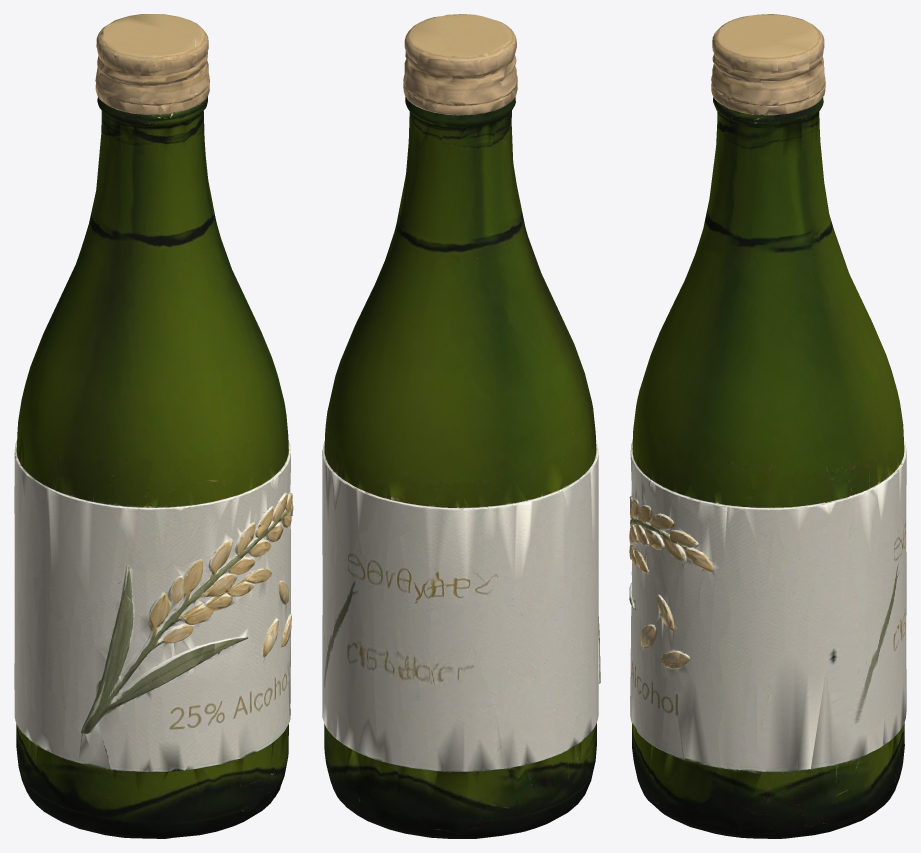
File: upm_mv3pq8s65eu.glb
3 views of the same model, side by side, from view 1: azimuth 30°, elevation 25°; view 2: azimuth 150°, elevation 25°; view 3: azimuth 270°, elevation 25° (orthographic).
Size of the model in its own units: 0.632 by 1.9 by 0.6341.
1 material, 1 textured.
